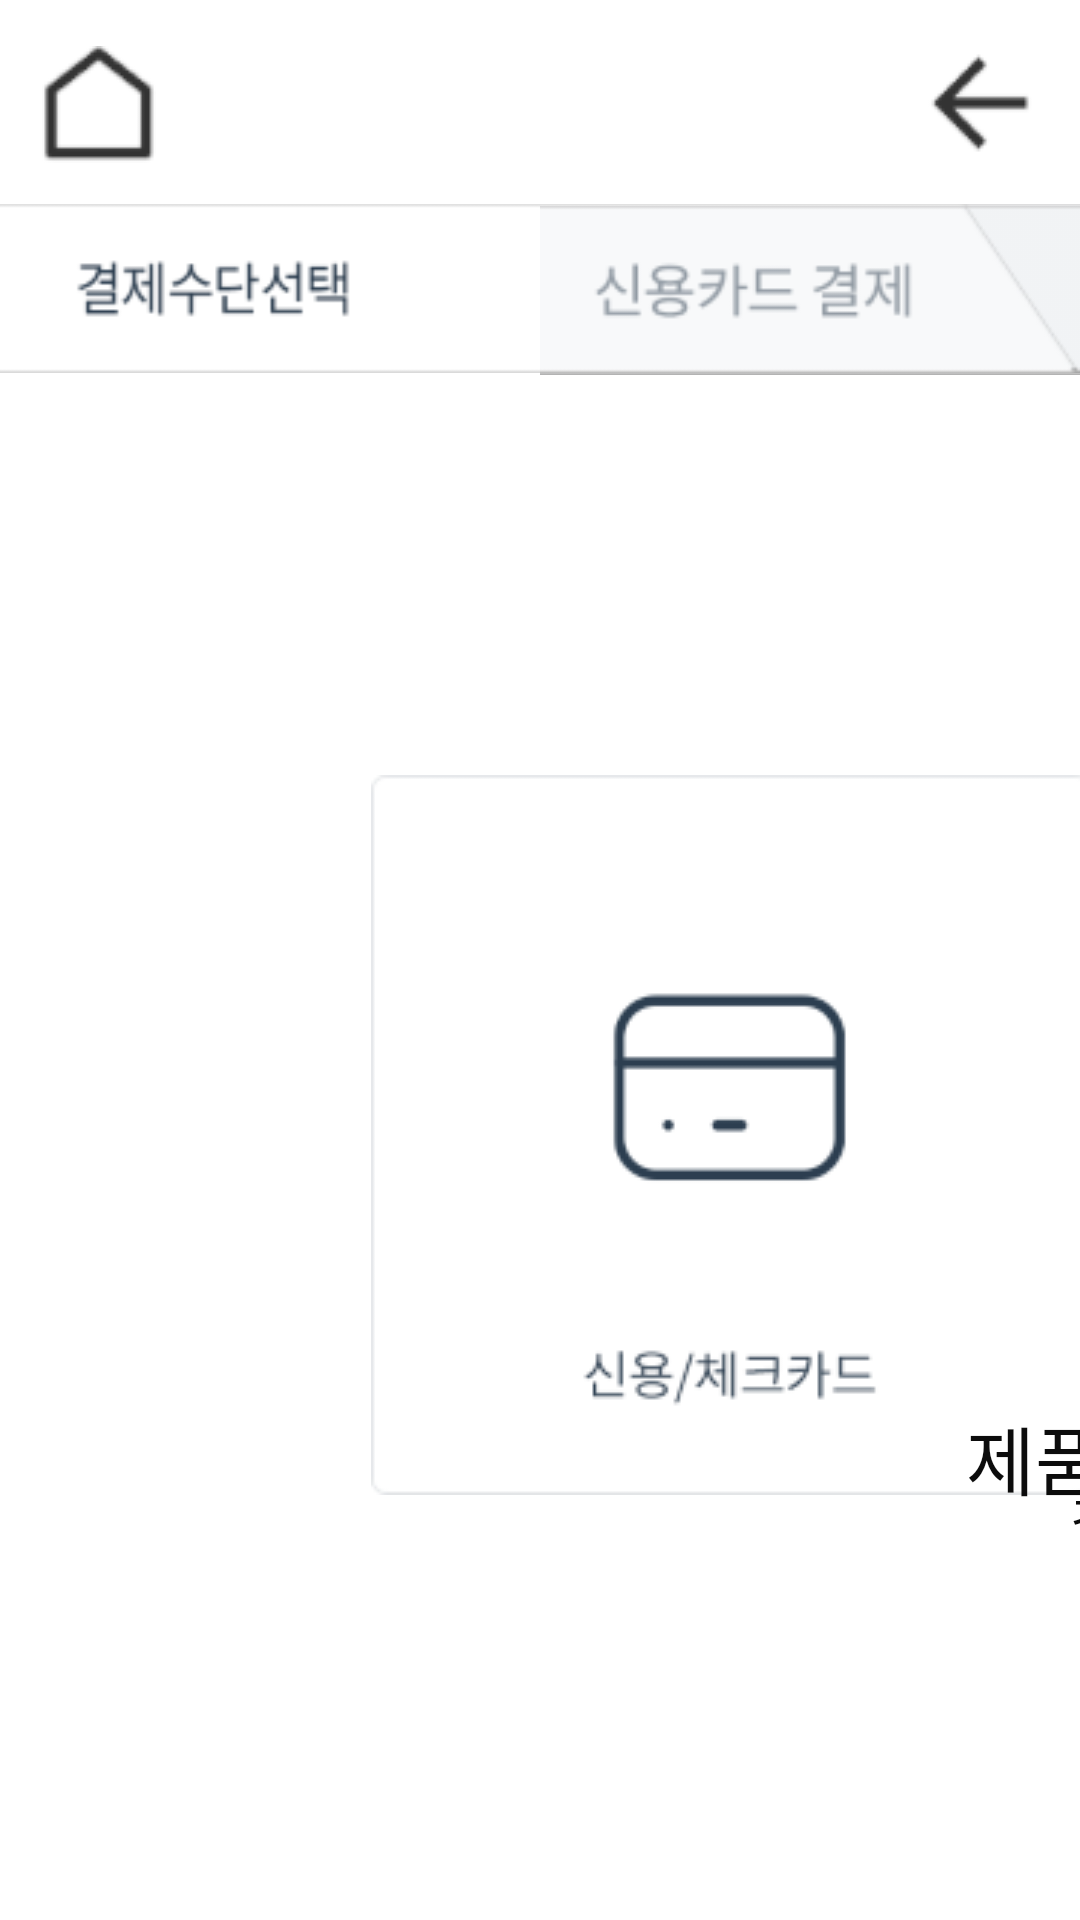

Icons on this 1080px x 1920px Android screen, each with the point to tap as (x,y):
top home: (99,103)
